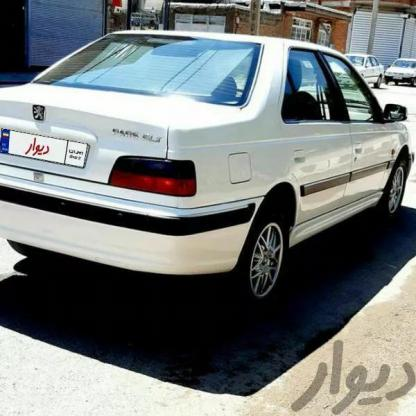Car: (0, 21, 416, 315), (322, 52, 390, 84), (389, 46, 416, 93)
